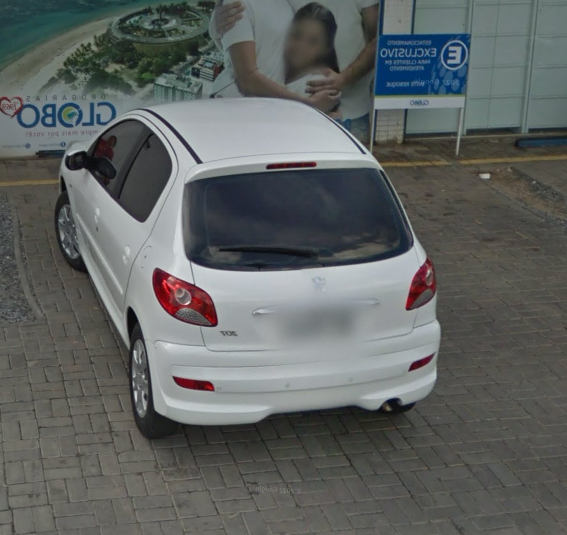car: (51, 93, 443, 443)
